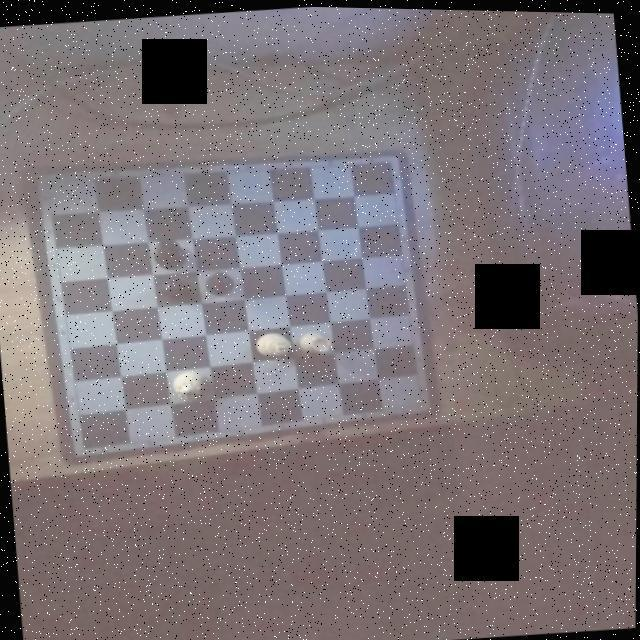chess-table-corners: (377, 149, 400, 173), (73, 438, 96, 457), (36, 172, 60, 190), (410, 393, 430, 412)
